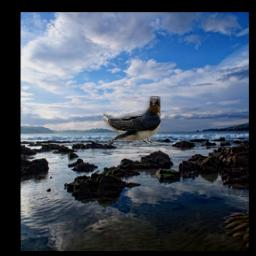Swallow: (103, 96, 161, 143)
